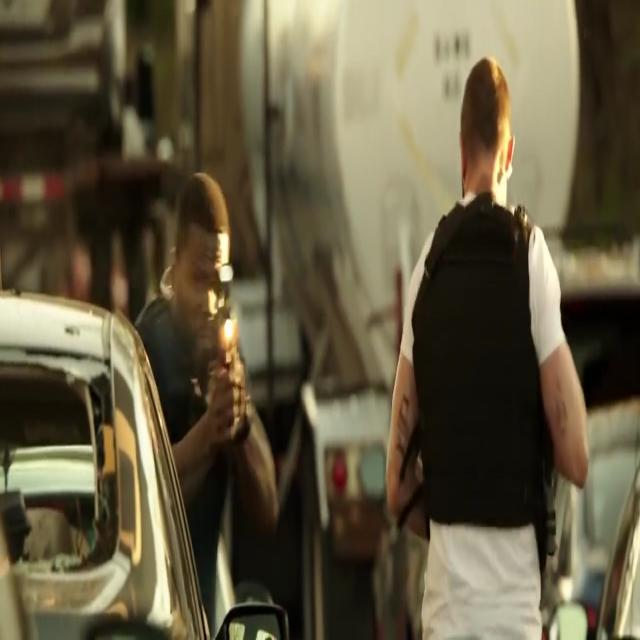Weapon: (206, 296, 266, 467)
